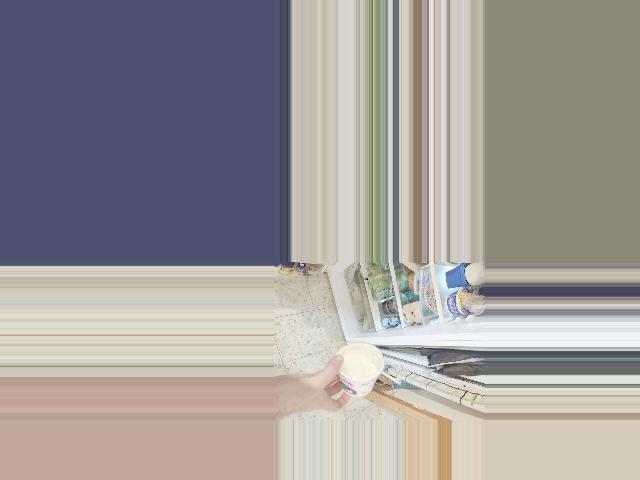cotage: (335, 343, 383, 397)
